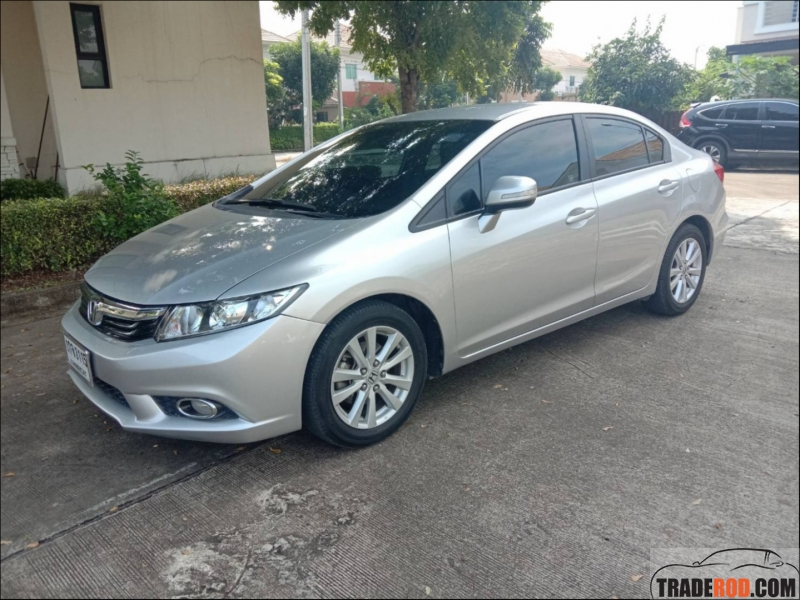sedan: (58, 95, 730, 454)
